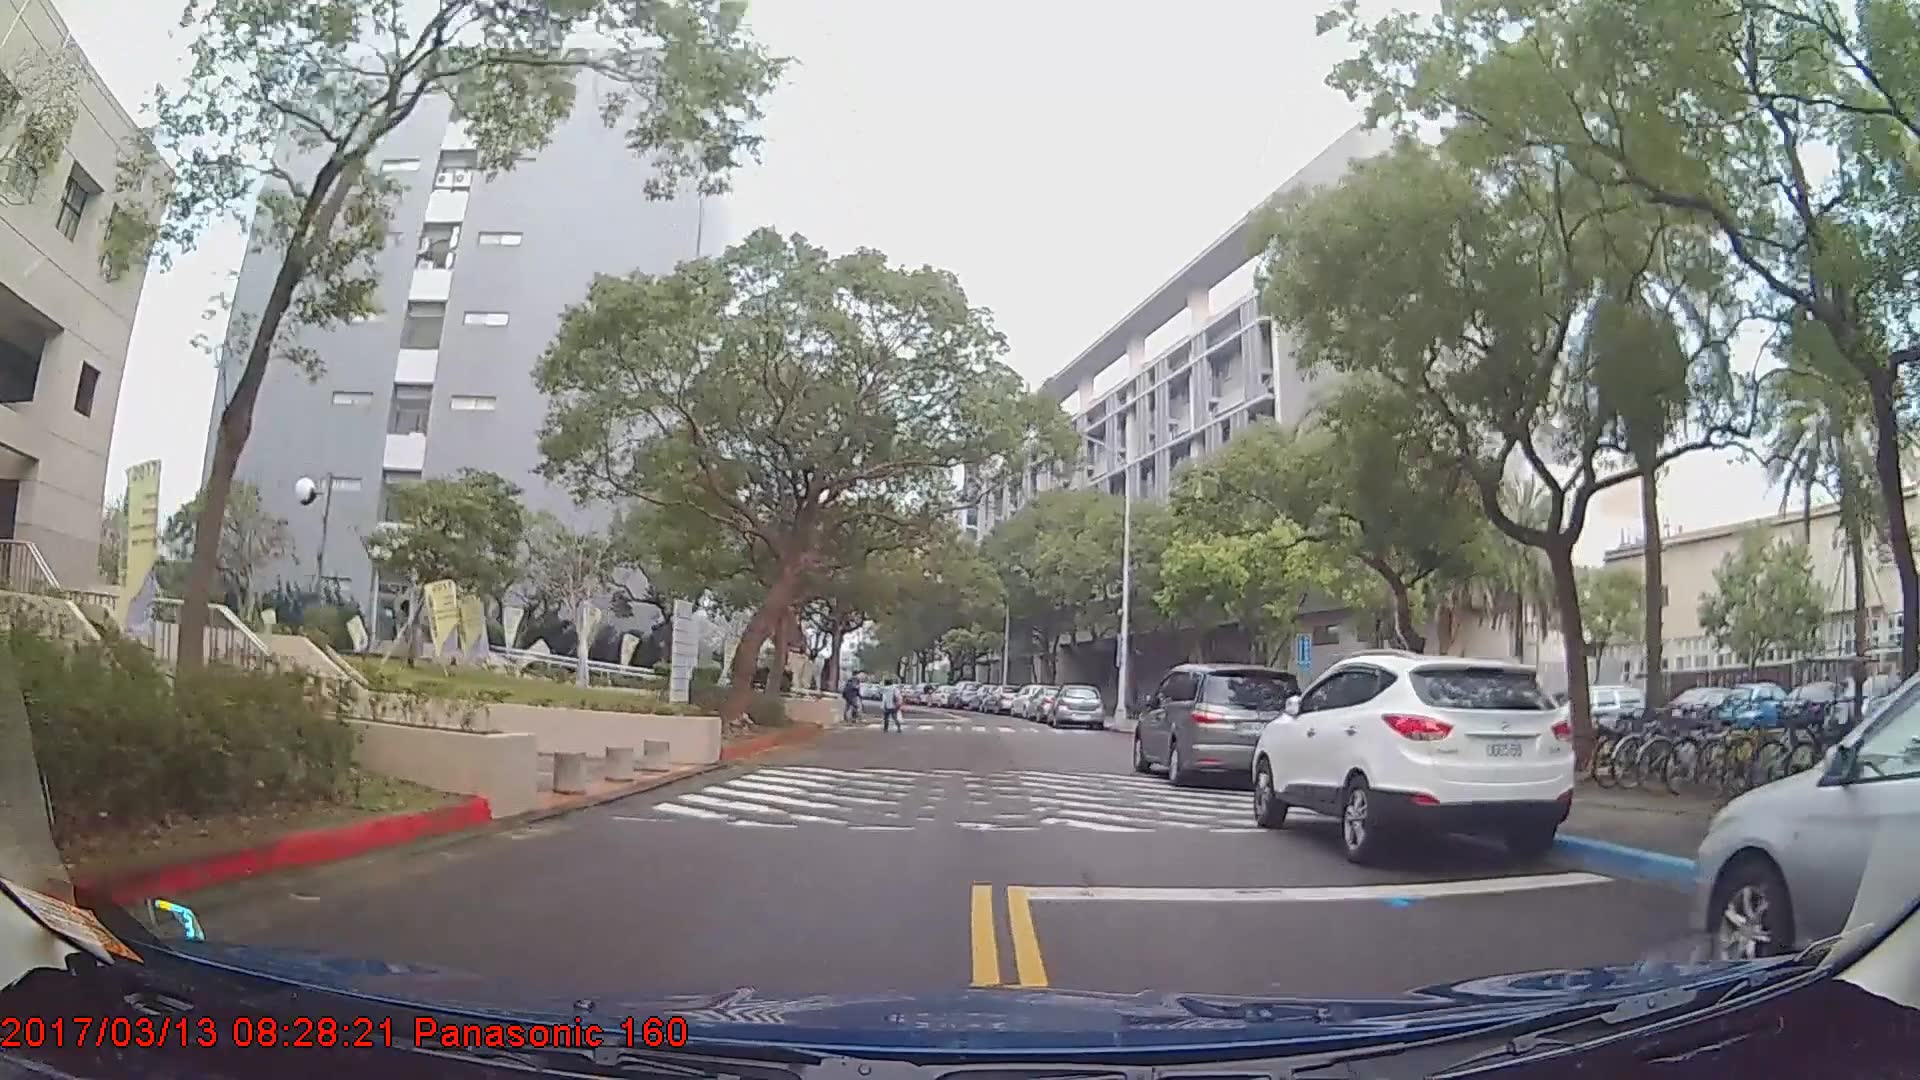pedestrian: (873, 680, 902, 737), (844, 673, 865, 726)
vehicle: (1695, 668, 1920, 999), (1248, 651, 1580, 863), (1130, 662, 1308, 790), (1509, 684, 1642, 748), (1775, 680, 1859, 734), (1662, 685, 1749, 731), (1715, 681, 1788, 734), (1050, 681, 1105, 732), (943, 679, 980, 709)
